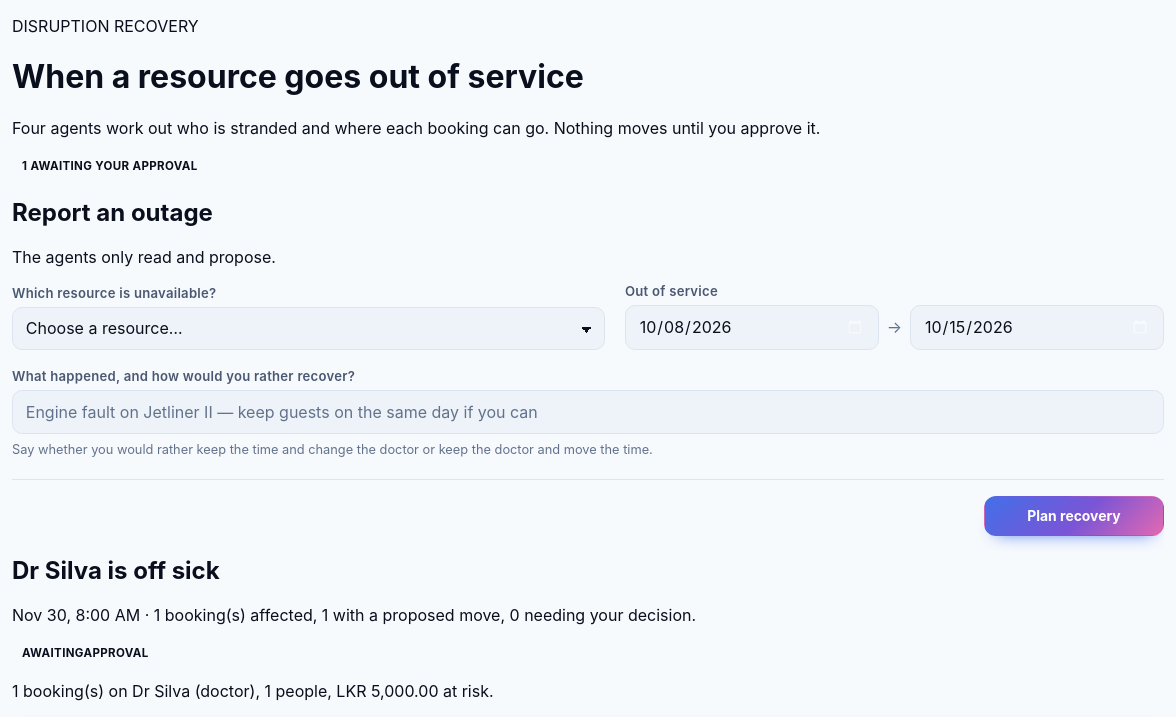
it: DisruptionRecoveryPage › needs a resource and a description before planning
What coordinates should you click on to do the following:
click the button "Plan recovery"
I would click on:
 (1074, 516)
Its box is [984,496,1164,536].
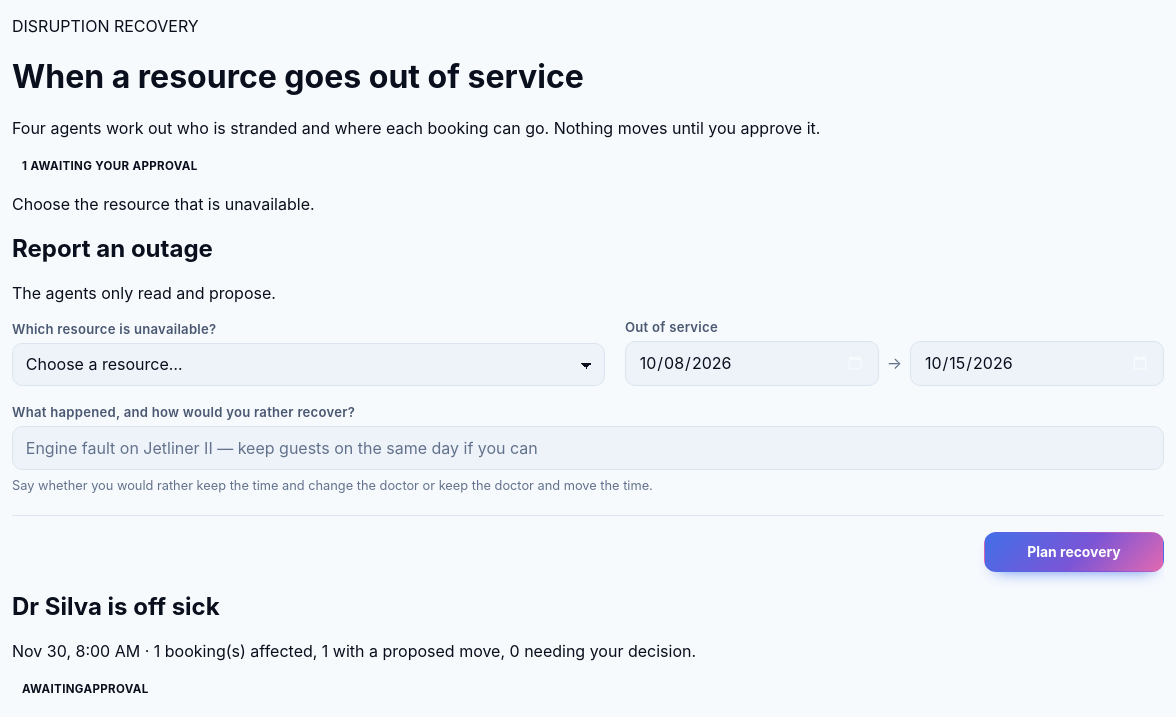
Expected: the text "Choose the resource that is unavailable." is shown, [12,194,315,214]
